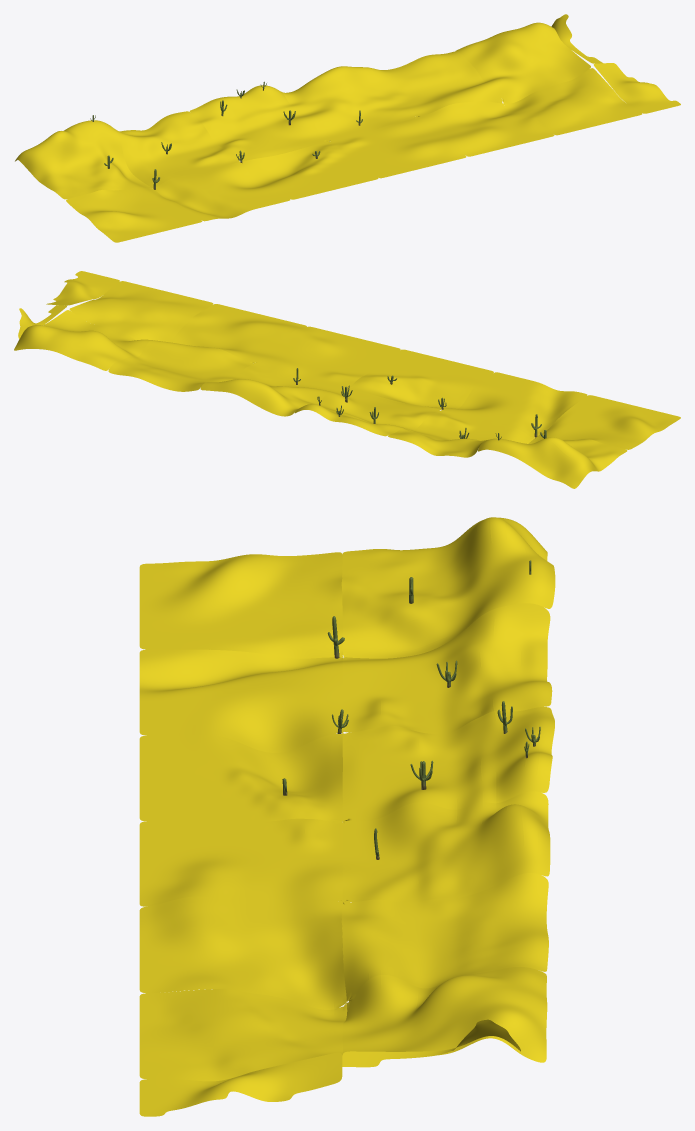
File: teren.gltf
3 views of the same model, one above another, from view 1: azimuth 30°, elevation 25°; view 2: azimuth 150°, elevation 25°; view 3: azimuth 270°, elevation 25° (orthographic). The views are drawn at different scales.
Visible parts, largest first — view 1: Plane.001; view 2: Plane.001; view 3: Plane.001.
Part boxes in pixels (x1=…): Plane.001: x1=15, y1=14, x2=680, y2=242; Plane.001: x1=14, y1=271, x2=680, y2=488; Plane.001: x1=139, y1=517, x2=555, y2=1116.
Size of the model in its own units: 720 by 58.7 by 227.
Materials: 12 (11 with a texture image).
